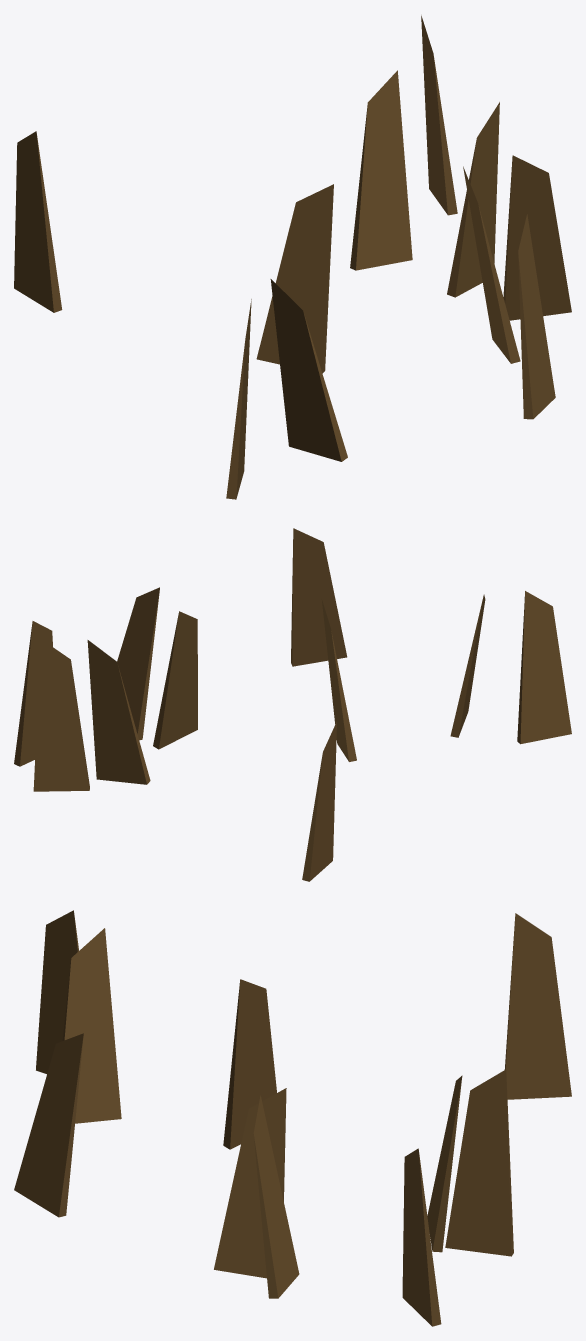
The model's file is Grass_Small_Extra_GustyCliffs.fbx.
3 views of the same model, one above another, from view 1: azimuth 30°, elevation 25°; view 2: azimuth 150°, elevation 25°; view 3: azimuth 270°, elevation 25° (orthographic). The views are drawn at different scales.
Parts seen in each view (by area): view 1: Grass_Extra_Small_01; view 2: Grass_Extra_Small_01; view 3: Grass_Extra_Small_01.
Boxes of the visible parts, box(x1,y1,x2,y2) form: Grass_Extra_Small_01: box(14, 15, 571, 499); Grass_Extra_Small_01: box(14, 528, 571, 881); Grass_Extra_Small_01: box(14, 910, 571, 1326).
Bounding box in the file's own units: 80.28 × 40.13 × 84.38.
